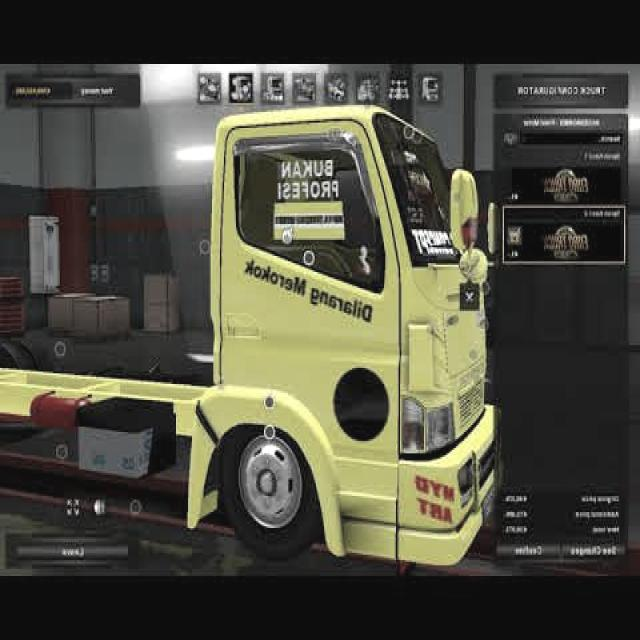truck: (1, 109, 500, 566)
